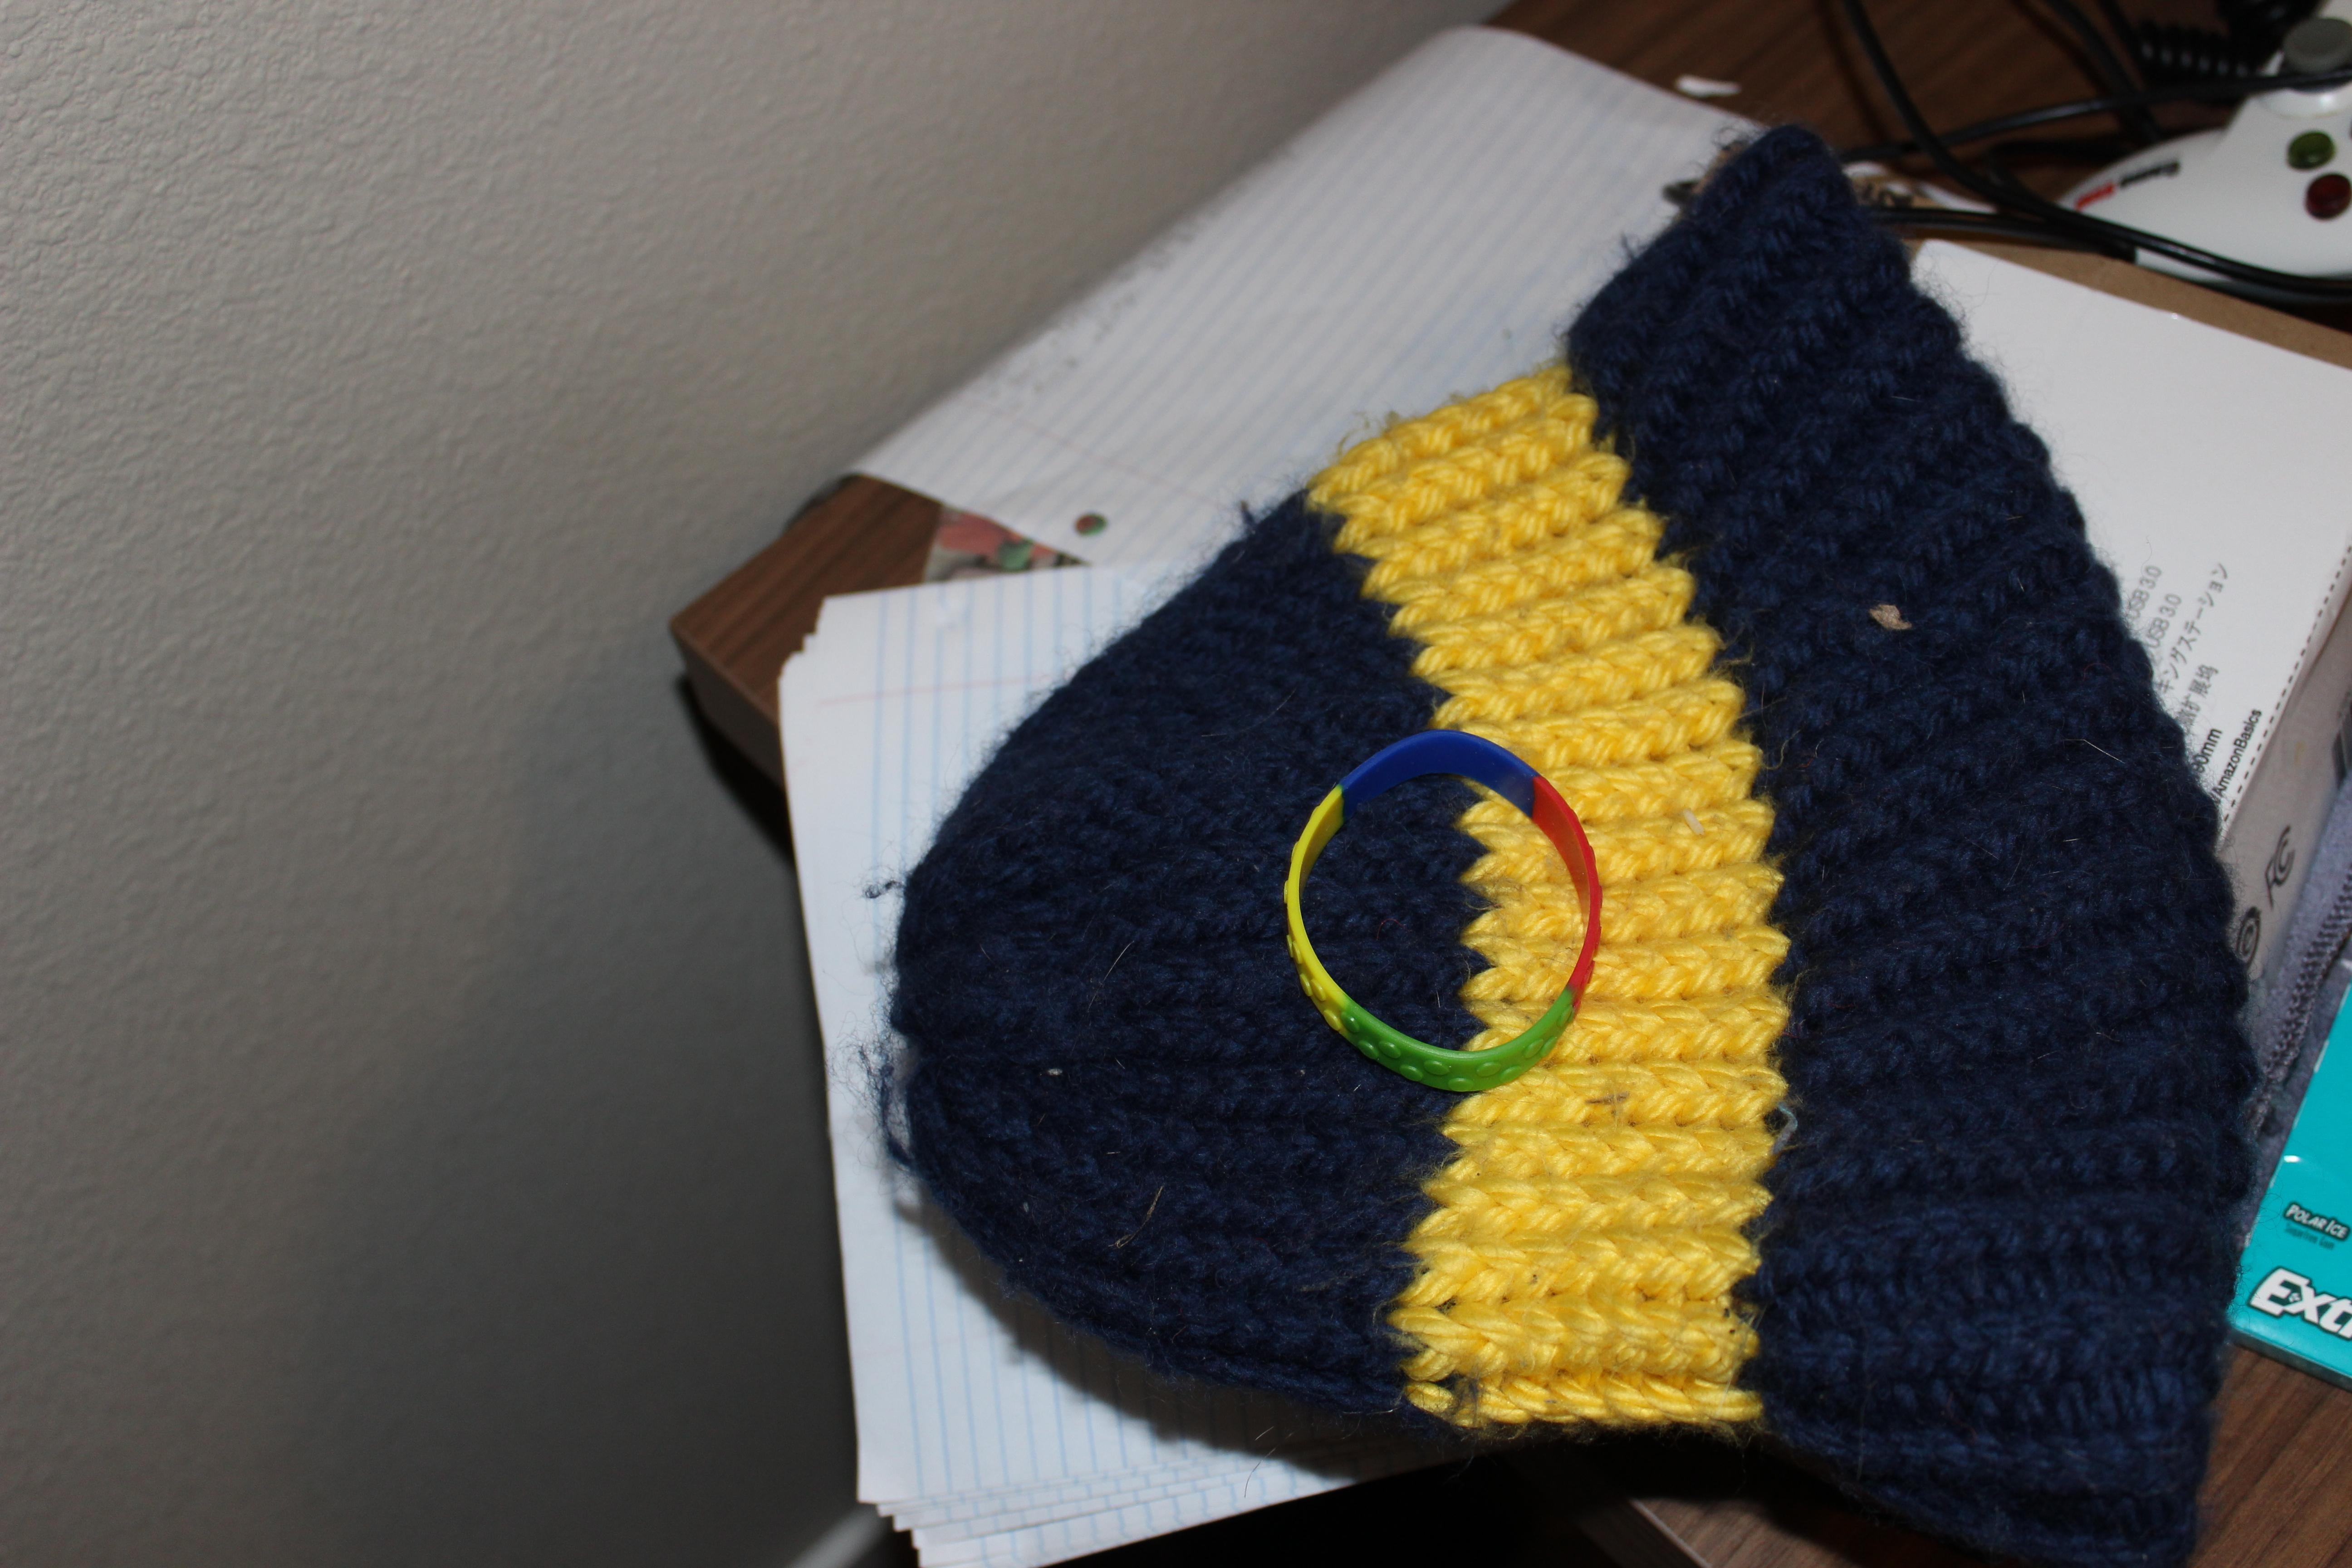legoBracelet: (1248, 712, 1624, 1118)
